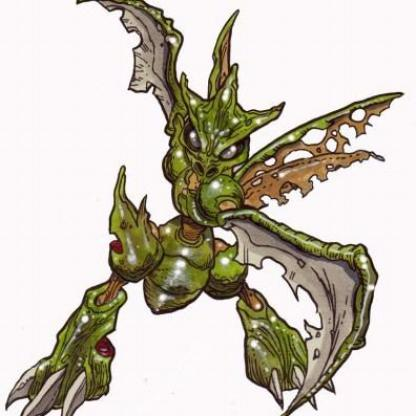Scyther: (7, 1, 416, 416)
